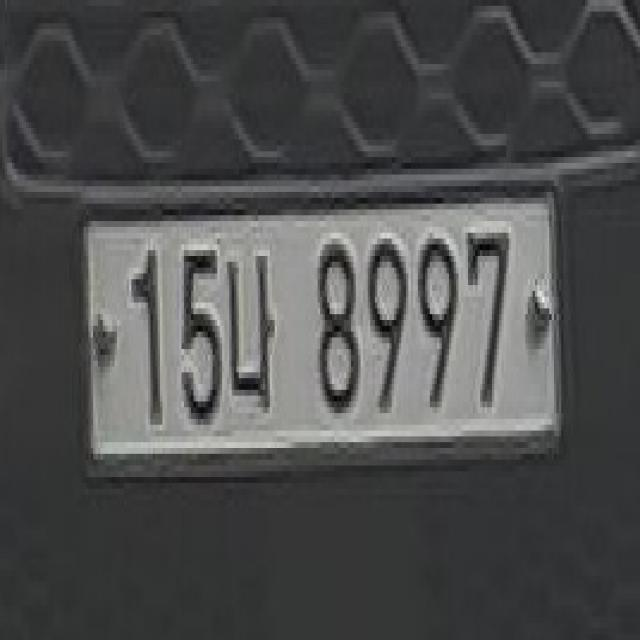1: (127, 221, 172, 454)
5: (177, 221, 227, 448)
7: (461, 204, 518, 436)
8: (310, 221, 366, 436)
9: (366, 221, 414, 442), (413, 221, 461, 436)
license_plate: (76, 169, 571, 512)
na: (227, 227, 282, 442)
